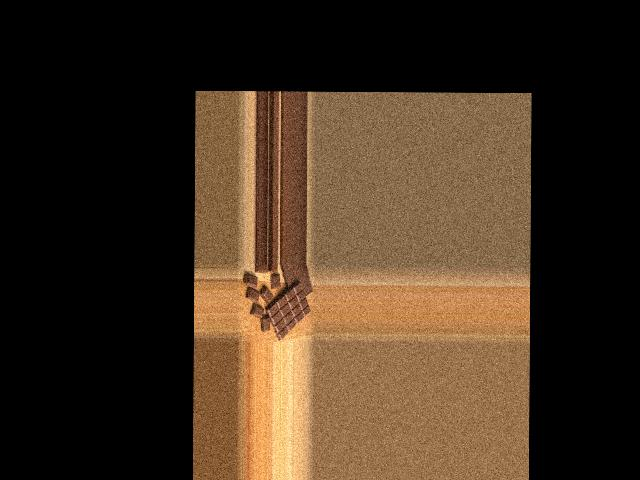chocolate: (263, 281, 311, 338)
